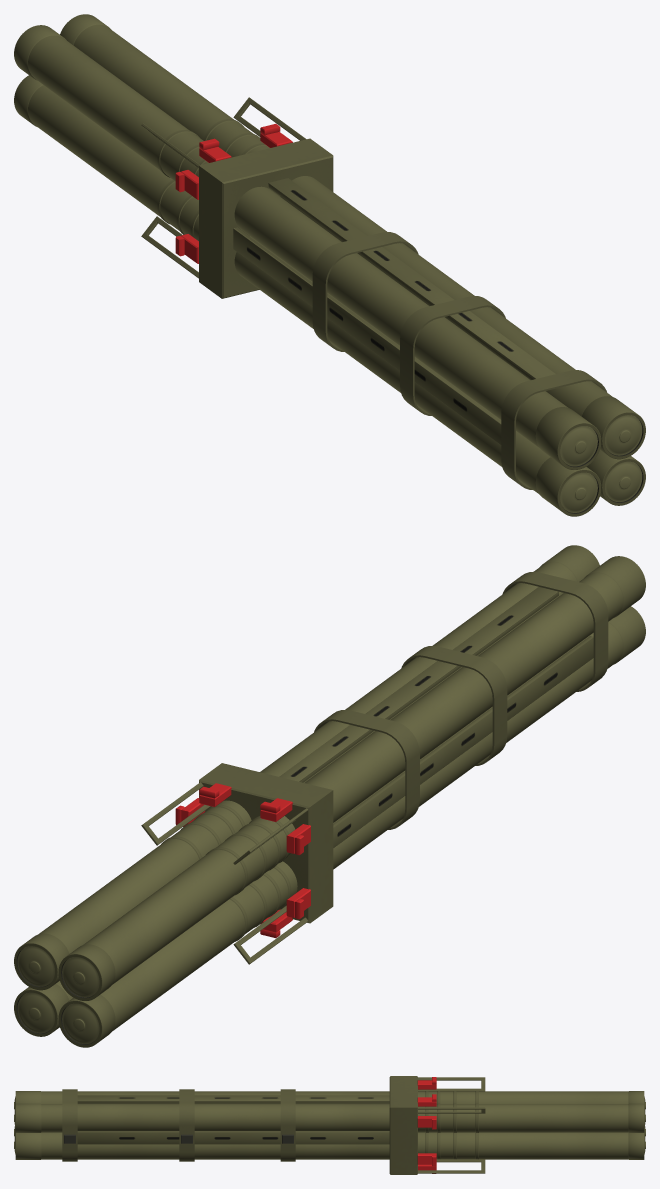
File: tkb1055_tubes.glb
3 views of the same model, one above another, from view 1: azimuth 30°, elevation 25°; view 2: azimuth 150°, elevation 25°; view 3: azimuth 270°, elevation 25° (orthographic). The views are drawn at different scales.
Visible parts, largest first — view 1: TKB1056, TKB1056_Tube_2, TKB1056_Tube_3, TKB1056_Tube_1, TKB1056_RedLatches, TKB1056_RearCover_3, TKB1056_RearCover_1, TKB1056_RearCover_2, TKB1056_RearCover_4, TKB1056_Tube_4; view 2: TKB1056_Tube_2, TKB1056, TKB1056_Tube_3, TKB1056_Tube_1, TKB1056_RedLatches, TKB1056_FrontCover_3, TKB1056_FrontCover_1, TKB1056_FrontCover_2, TKB1056_FrontCover_4, TKB1056_Tube_4; view 3: TKB1056_Tube_1, TKB1056, TKB1056_Tube_4, TKB1056_Tube_2, TKB1056_RedLatches.
Boxes of the visible parts, x1,y1,x2,y2 form: TKB1056: [141, 97, 606, 490]; TKB1056_Tube_2: [14, 25, 601, 469]; TKB1056_Tube_3: [14, 75, 601, 516]; TKB1056_Tube_1: [60, 14, 645, 459]; TKB1056_RedLatches: [175, 123, 292, 263]; TKB1056_RearCover_3: [560, 472, 597, 512]; TKB1056_RearCover_1: [605, 415, 642, 455]; TKB1056_RearCover_2: [560, 426, 597, 466]; TKB1056_RearCover_4: [605, 461, 642, 502]; TKB1056_Tube_4: [586, 450, 645, 505]; TKB1056_Tube_2: [58, 556, 645, 1000]; TKB1056: [141, 571, 608, 964]; TKB1056_Tube_3: [58, 606, 645, 1047]; TKB1056_Tube_1: [14, 545, 599, 990]; TKB1056_RedLatches: [175, 783, 310, 938]; TKB1056_FrontCover_3: [62, 1003, 99, 1043]; TKB1056_FrontCover_1: [17, 946, 54, 986]; TKB1056_FrontCover_2: [62, 957, 99, 997]; TKB1056_FrontCover_4: [17, 992, 54, 1033]; TKB1056_Tube_4: [14, 981, 73, 1036]; TKB1056_Tube_1: [15, 1103, 644, 1132]; TKB1056: [62, 1076, 485, 1174]; TKB1056_Tube_4: [15, 1132, 644, 1159]; TKB1056_Tube_2: [15, 1091, 644, 1103]; TKB1056_RedLatches: [417, 1077, 436, 1173].
Size of the model in its own units: 0.314 by 0.314 by 2.38.
Materials: 1 (1 with a texture image).
